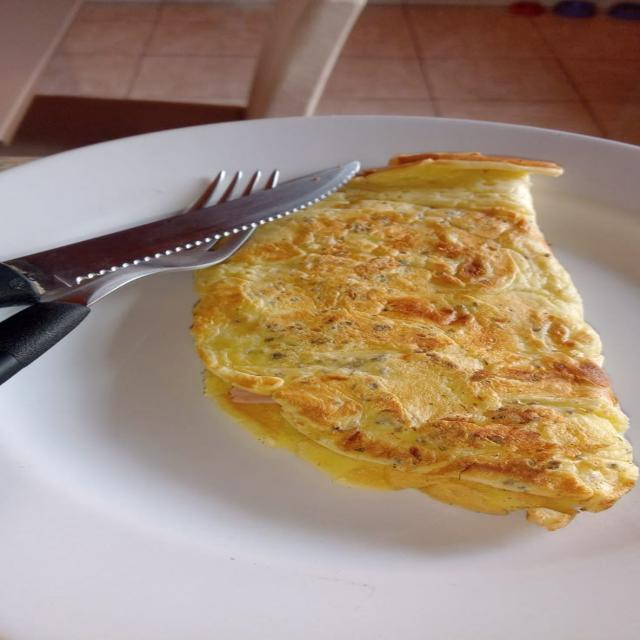omelette: (193, 154, 637, 529)
